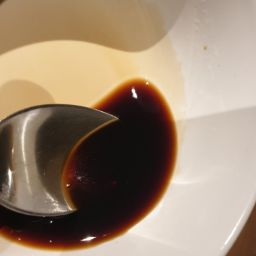Soy Sauce: (8, 82, 167, 245), (121, 101, 166, 179)
